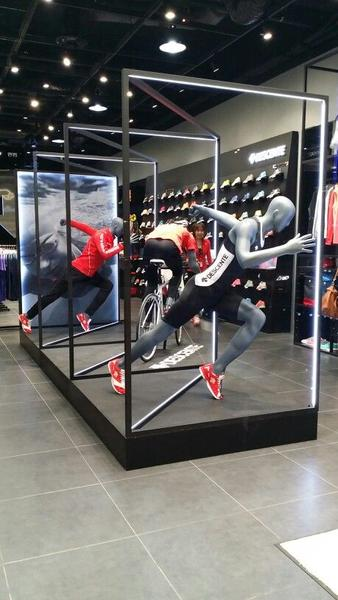person: (190, 219, 215, 270)
person-like: (104, 193, 321, 403), (18, 208, 136, 336)
